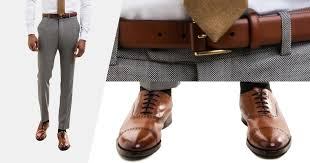F_belt: (115, 10, 310, 57), (39, 10, 78, 20)
F_dress pants: (36, 18, 81, 133)
